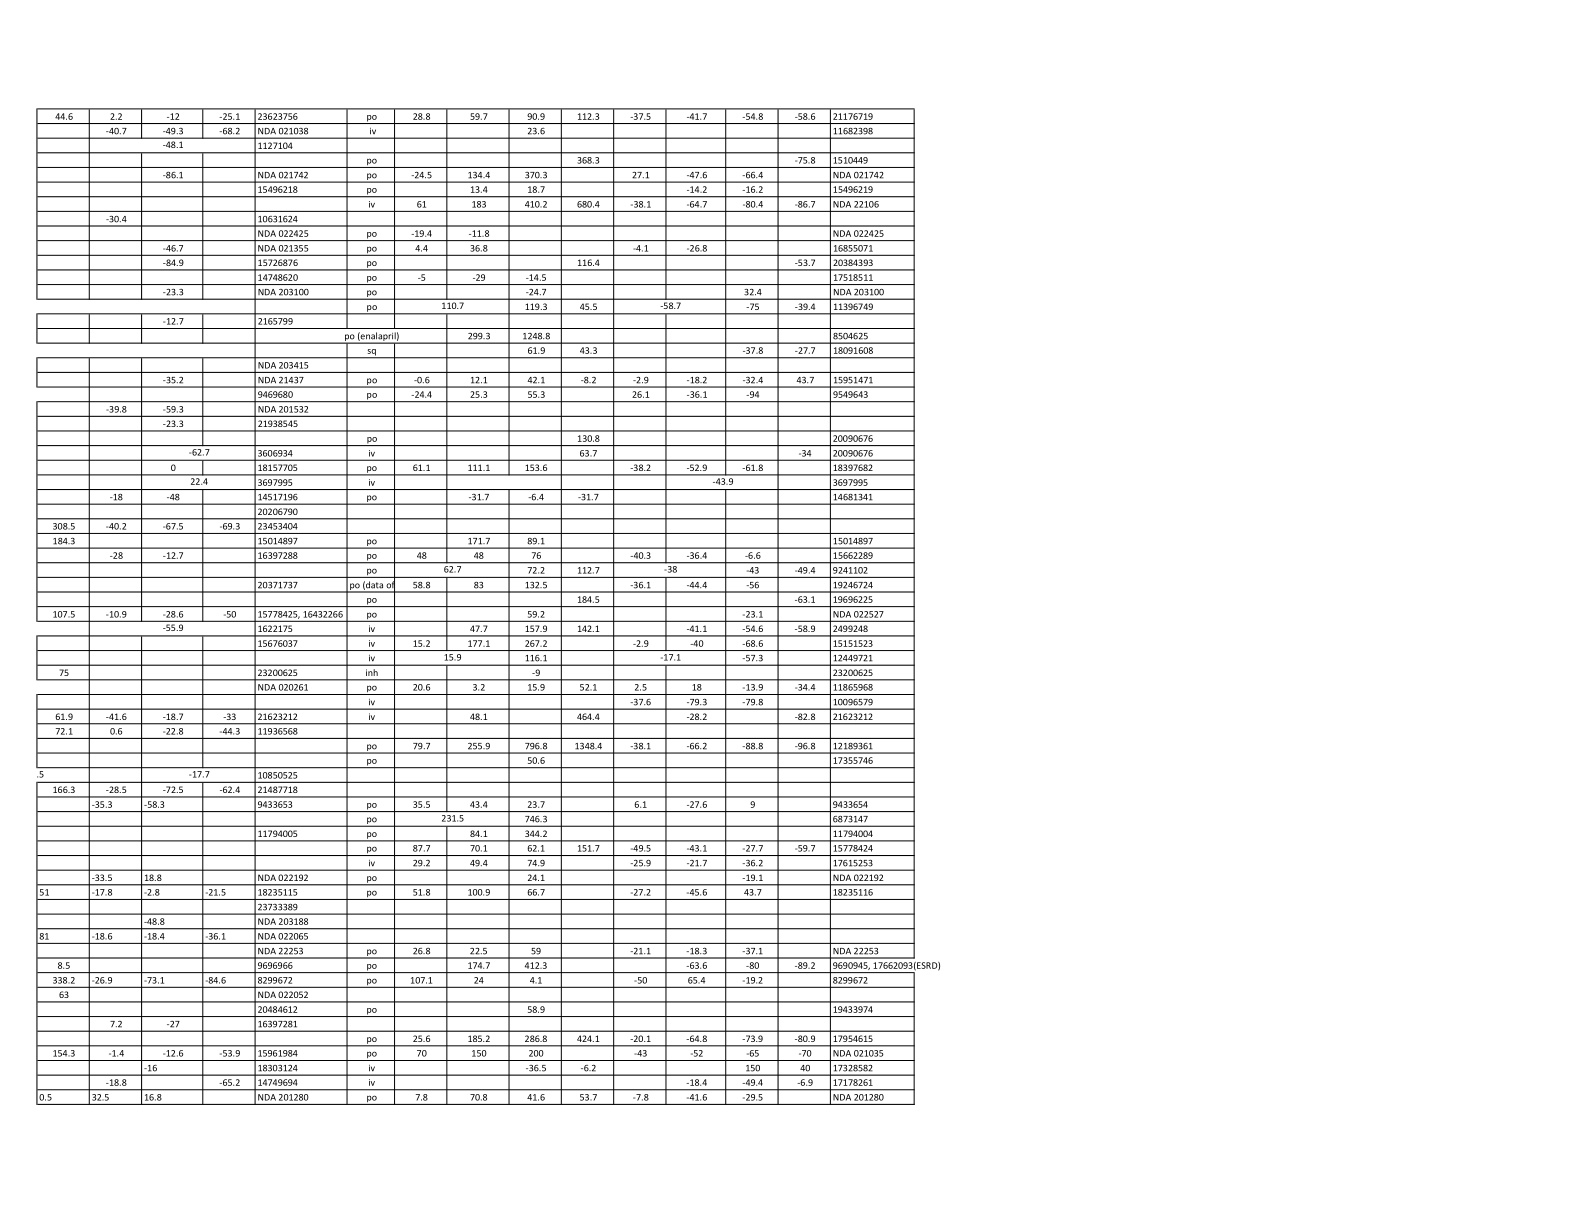partial_lined_merged_cells: (33, 105, 915, 1106)
